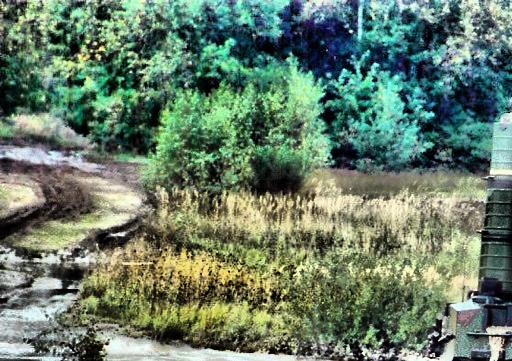tanks: (415, 127, 512, 361)
